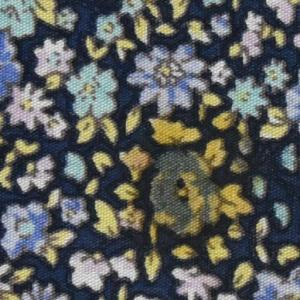Stain: (112, 88, 259, 271)
